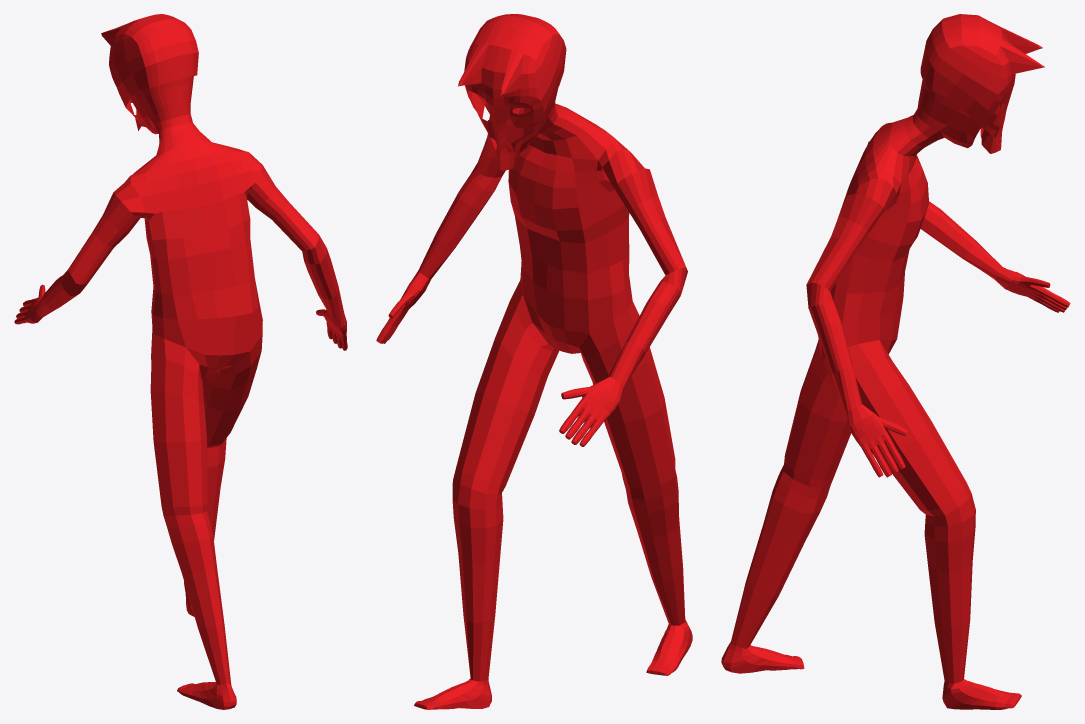
The model's file is marchaE_000050.obj.
3 renders of one model, left to right at view 1: azimuth 30°, elevation 25°; view 2: azimuth 150°, elevation 25°; view 3: azimuth 270°, elevation 25°, orthographic. The views are drawn at different scales.
Visible parts, largest first — view 1: Plane.002_Plane.001; view 2: Plane.002_Plane.001; view 3: Plane.002_Plane.001.
Boxes of the visible parts, bbox=[...] form: Plane.002_Plane.001: bbox=[14, 14, 347, 709]; Plane.002_Plane.001: bbox=[376, 14, 692, 709]; Plane.002_Plane.001: bbox=[721, 14, 1070, 709].
Size of the model in its own units: 3.11 by 6.66 by 3.15.
